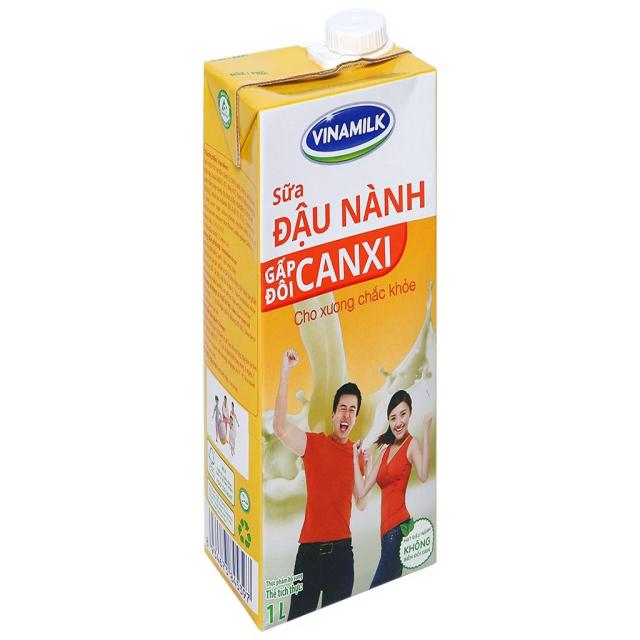non_white_jug: (180, 9, 449, 631)
